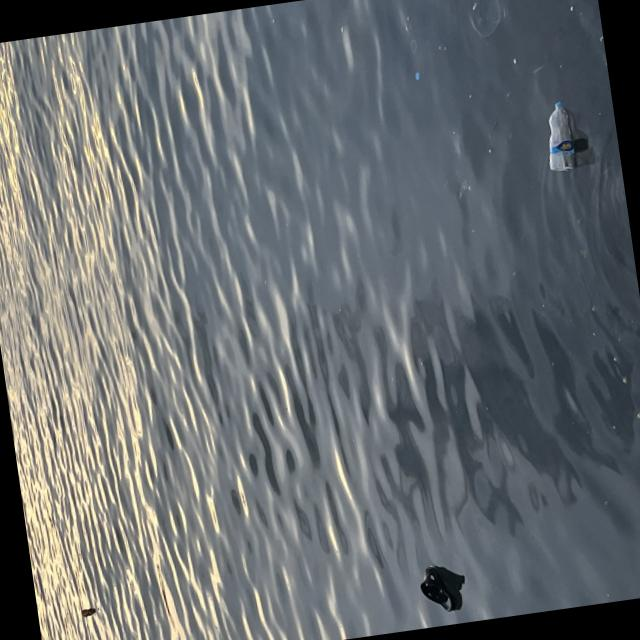plastic: (538, 100, 576, 173)
plastic bottle: (465, 0, 507, 39)
unknow: (417, 562, 459, 615)
